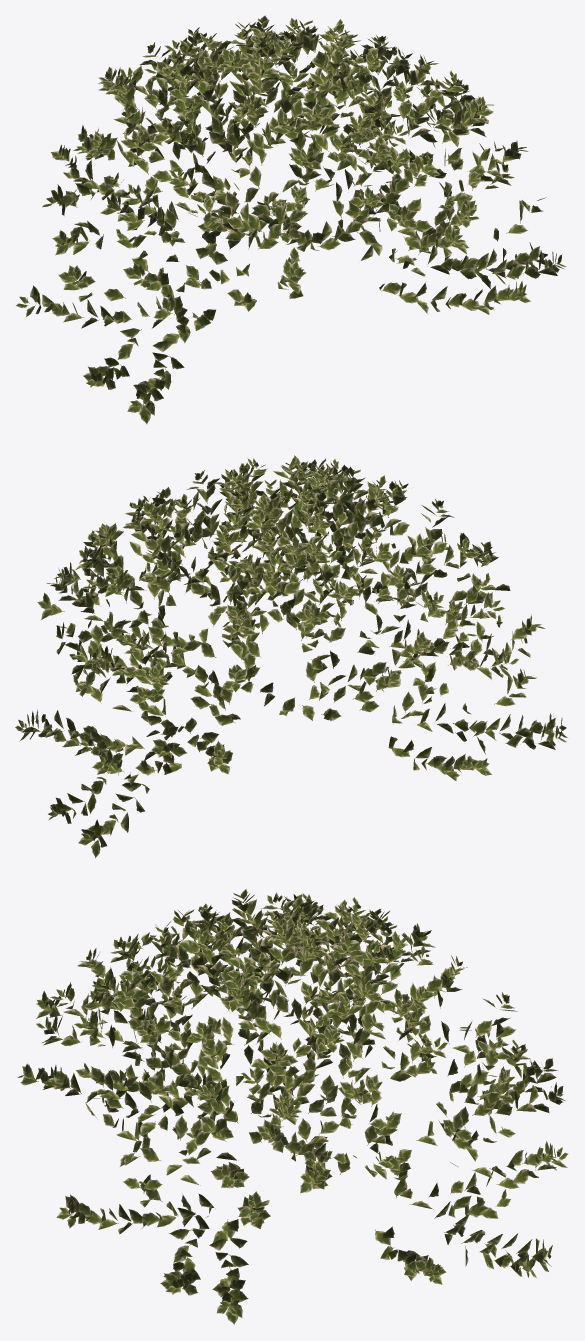
Rendered from MESH_LS10_Y_Euonymus_LOD2.fbx.
The picture shows the model from 3 angles, top to bottom: view 1: azimuth 30°, elevation 25°; view 2: azimuth 150°, elevation 25°; view 3: azimuth 270°, elevation 25°; orthographic projection. The views are drawn at different scales.
Visible parts, largest first — view 1: MI_LOD2_001; view 2: MI_LOD2_001; view 3: MI_LOD2_001.
Boxes of the visible parts, bbox=[...] form: MI_LOD2_001: bbox=[16, 15, 566, 424]; MI_LOD2_001: bbox=[15, 455, 567, 858]; MI_LOD2_001: bbox=[17, 889, 568, 1324].
Size of what is drawn, in the model's own units: 211 by 128 by 201.
